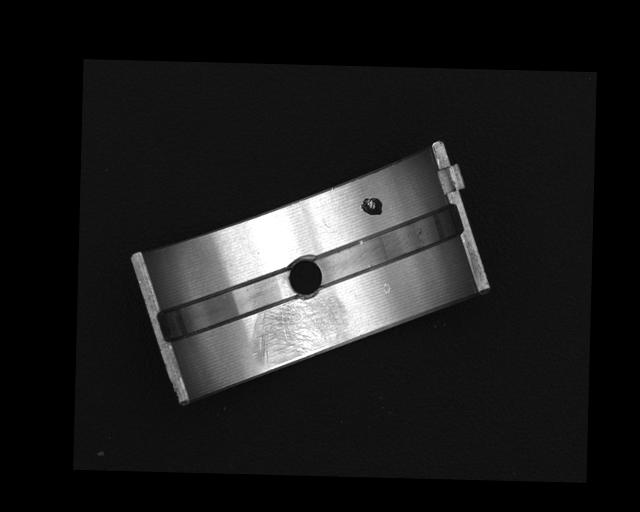blot: (359, 194, 384, 216)
bruise: (382, 281, 390, 294)
gap: (314, 205, 459, 290), (158, 269, 295, 343)
hole: (286, 255, 324, 298)
scratch: (249, 292, 346, 369)
